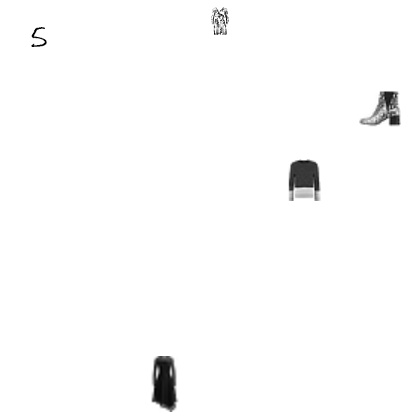5: (24, 23, 52, 51)
Ankle_boot: (359, 87, 401, 129)
Dress: (136, 356, 192, 412), (206, 7, 234, 35)
Pullover: (283, 159, 325, 201)
